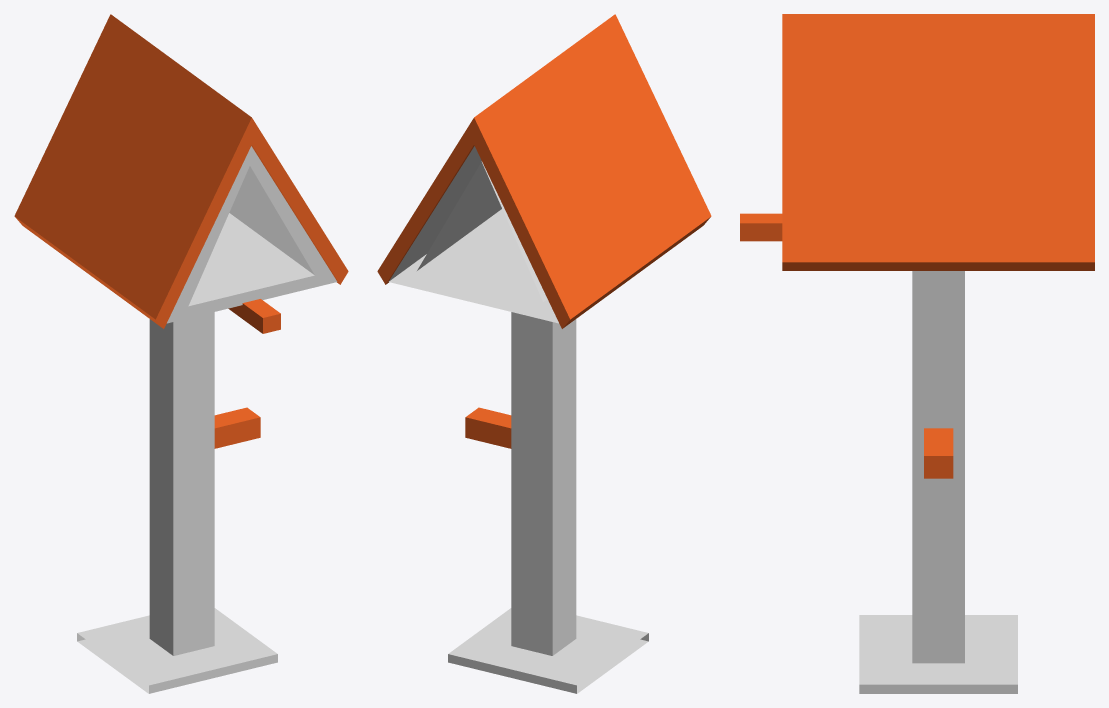
Rendered from bird_house_1.FBX.
3 renders of one model, left to right at view 1: azimuth 30°, elevation 25°; view 2: azimuth 150°, elevation 25°; view 3: azimuth 270°, elevation 25°, orthographic. The views are drawn at different scales.
Parts seen in each view (by area): view 1: bird_house_1; view 2: bird_house_1; view 3: bird_house_1.
Part boxes in pixels (left/top/right/bottom): bird_house_1: left=14, top=14, right=348, bottom=693; bird_house_1: left=377, top=14, right=711, bottom=693; bird_house_1: left=740, top=14, right=1094, bottom=693.
Size of the model in its own units: 0.6927 by 2.01 by 0.9978.
Materials: 1 (1 with a texture image).
